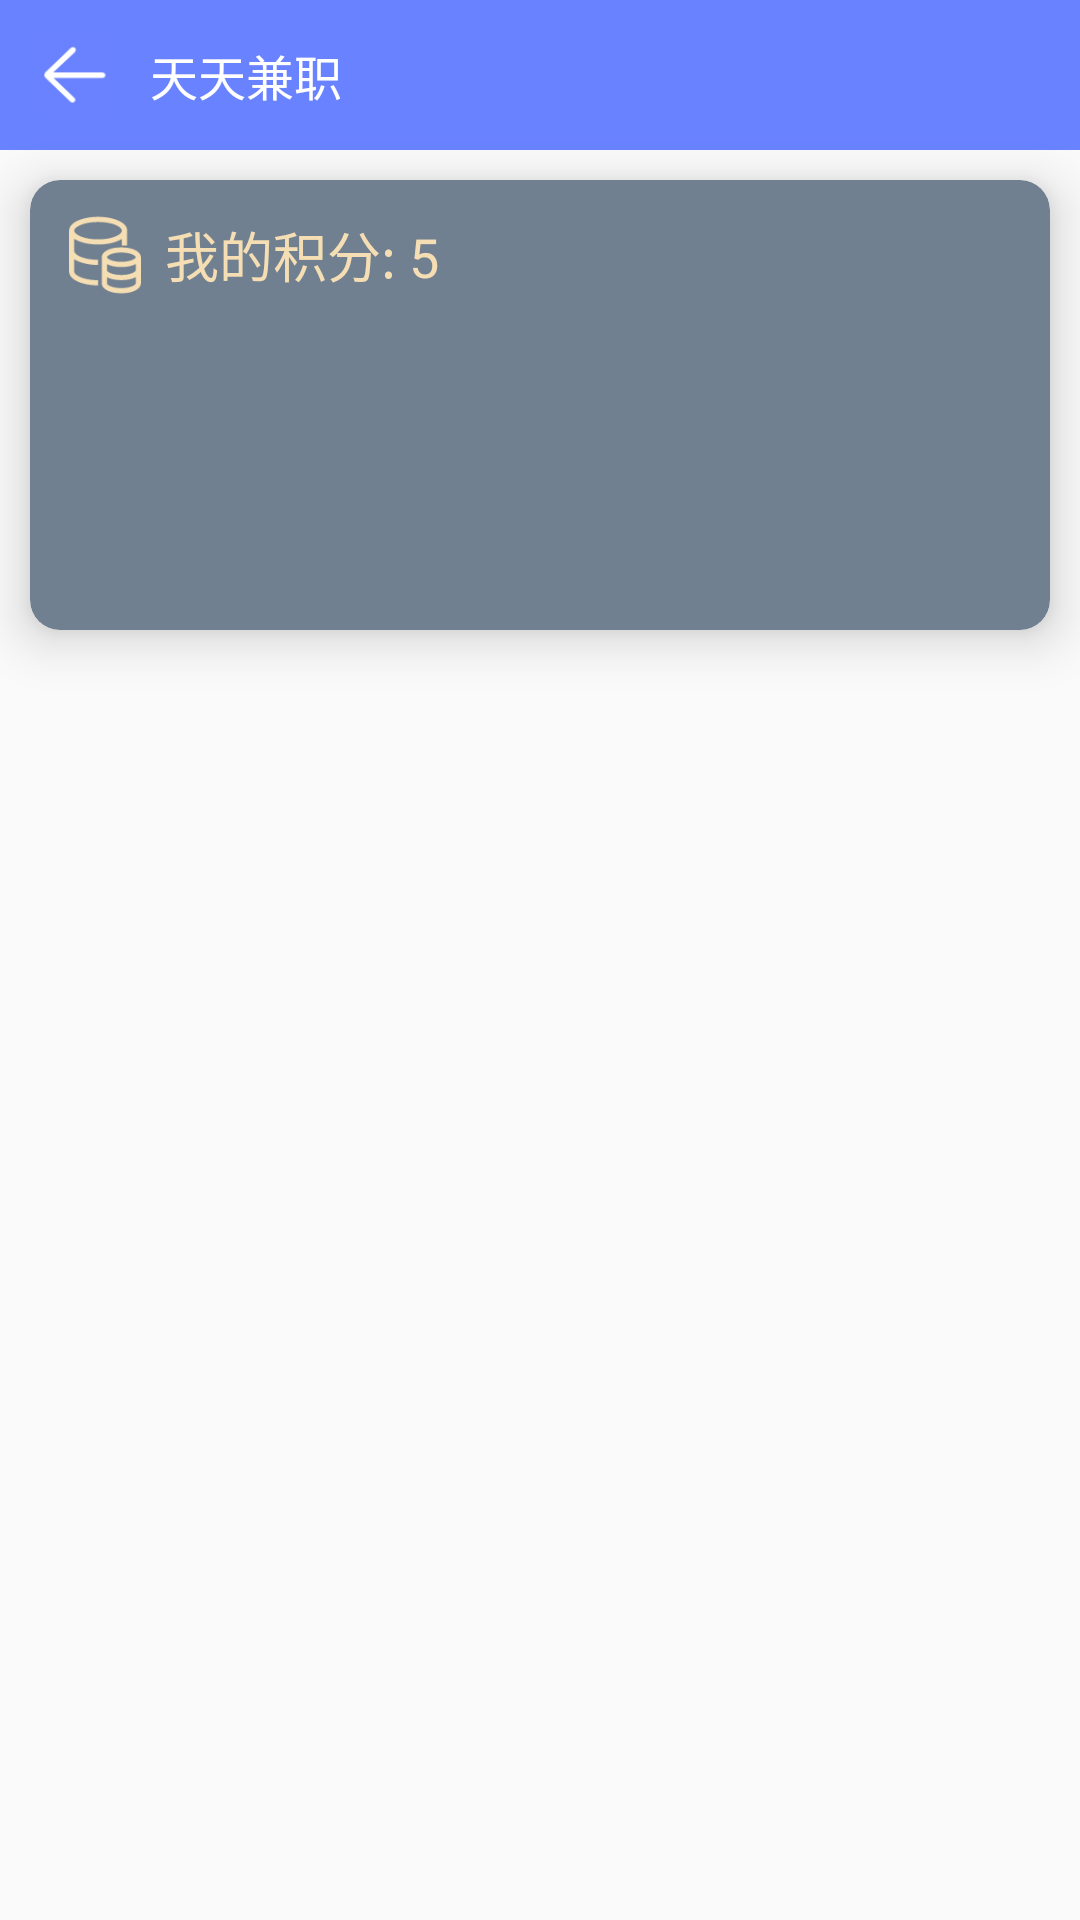

Icon click points for this 1080×1920 phone screenshot, format point (x, y):
back: point (75, 75)
myjifen: point (105, 255)
